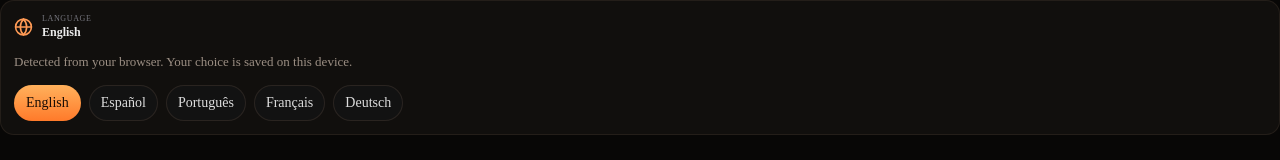
Settings language switcher › lists every language, marks the active one and persists a choice
Click the radio button labelled "Deutsch". click: click(368, 103)
box: [333, 85, 403, 121]
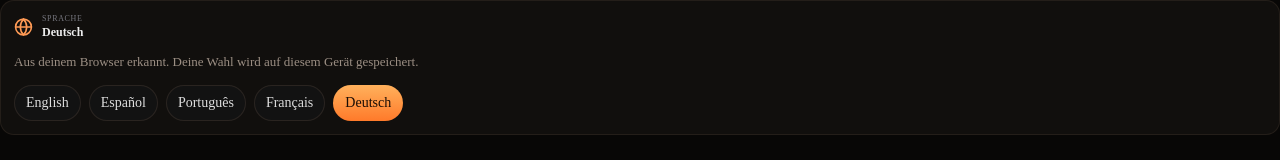
Check: the element named "Sprache" is shown, box [14, 85, 403, 121]
